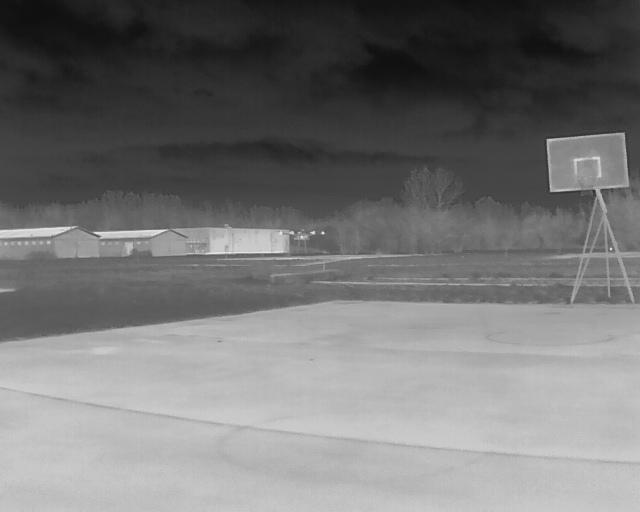drone: (272, 224, 330, 264)
